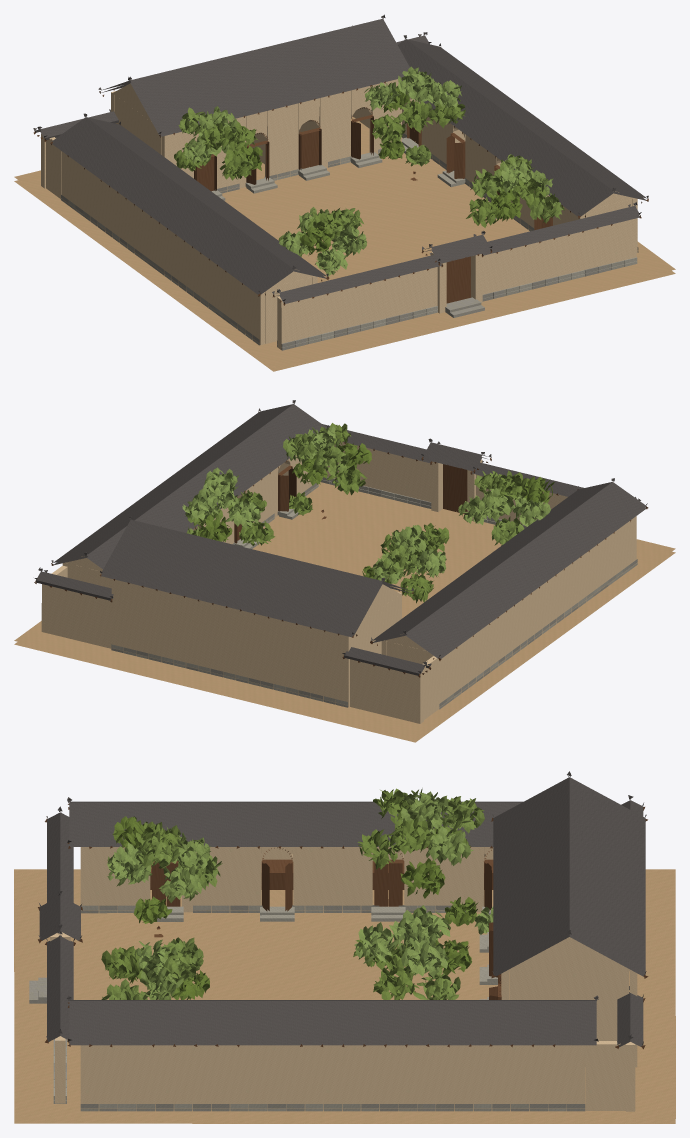
File: xibaipo-scene.glb
The picture shows the model from 3 angles, top to bottom: view 1: azimuth 30°, elevation 25°; view 2: azimuth 150°, elevation 25°; view 3: azimuth 270°, elevation 25°; orthographic projection. The views are drawn at different scales.
Visible parts, largest first — view 1: xibaipo-scene-complete-environment; view 2: xibaipo-scene-complete-environment; view 3: xibaipo-scene-complete-environment.
Boxes of the visible parts, x1,y1,x2,y2 form: xibaipo-scene-complete-environment: [14, 14, 675, 371]; xibaipo-scene-complete-environment: [14, 400, 675, 742]; xibaipo-scene-complete-environment: [14, 771, 675, 1123].
Bounding box in the file's own units: 0.8889 × 0.2543 × 0.9946.
Materials: 14 (14 with a texture image).
